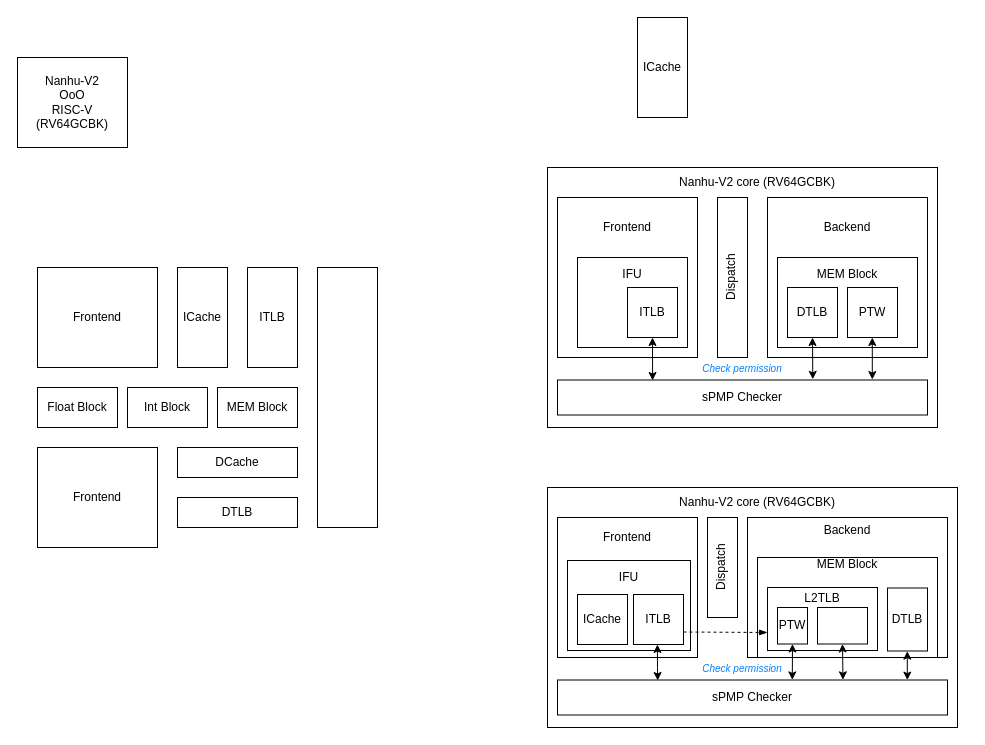
The diagram is 985 pixels wide and 745 high, and some of its shapes have lost their labels. The shapes that lost their labels are listed below. From the top down, each one's centre as x and y in pixels, then its label:
At (x=347, y=397): "sPMP".
At (x=842, y=625): "LLPTW".
